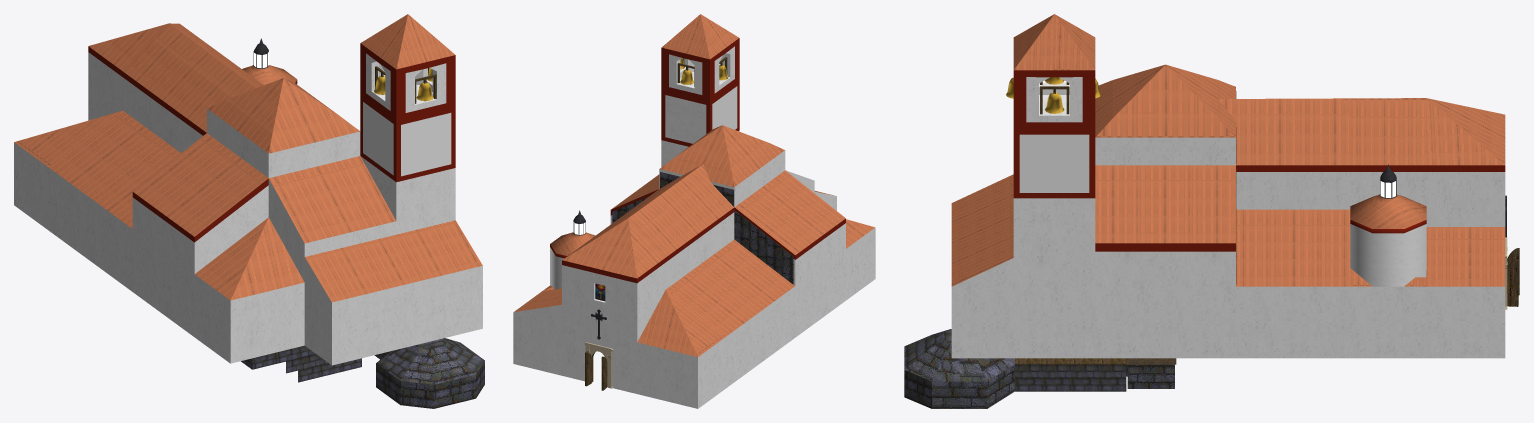
Rendered from IglesiaParedes.fbx.
3 renders of one model, left to right at view 1: azimuth 30°, elevation 25°; view 2: azimuth 150°, elevation 25°; view 3: azimuth 270°, elevation 25°, orthographic. The views are drawn at different scales.
Visible parts, largest first — view 1: InteriorIglesia; view 2: InteriorIglesia; view 3: InteriorIglesia.
Part boxes in pixels (x1,y1,x2,y2): InteriorIglesia: (14,14,484,408); InteriorIglesia: (513,14,875,408); InteriorIglesia: (904,14,1519,408).
Bounding box in the file's own units: 3056 × 4270 × 6231.
